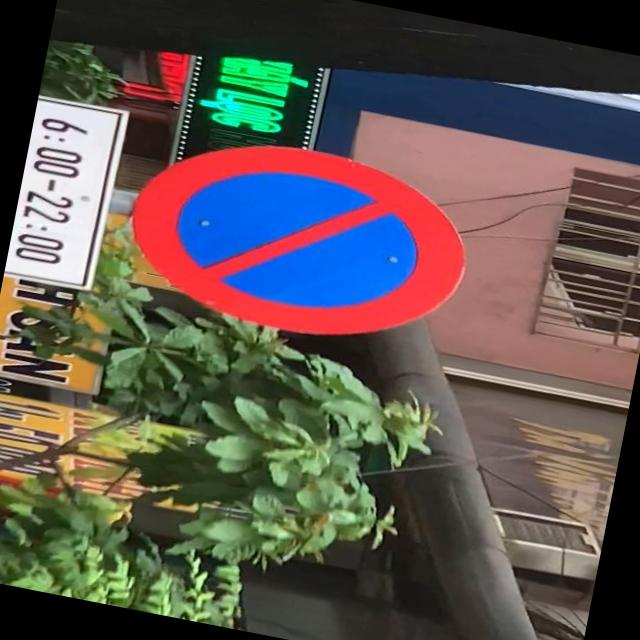P-131a: (117, 118, 480, 362)
